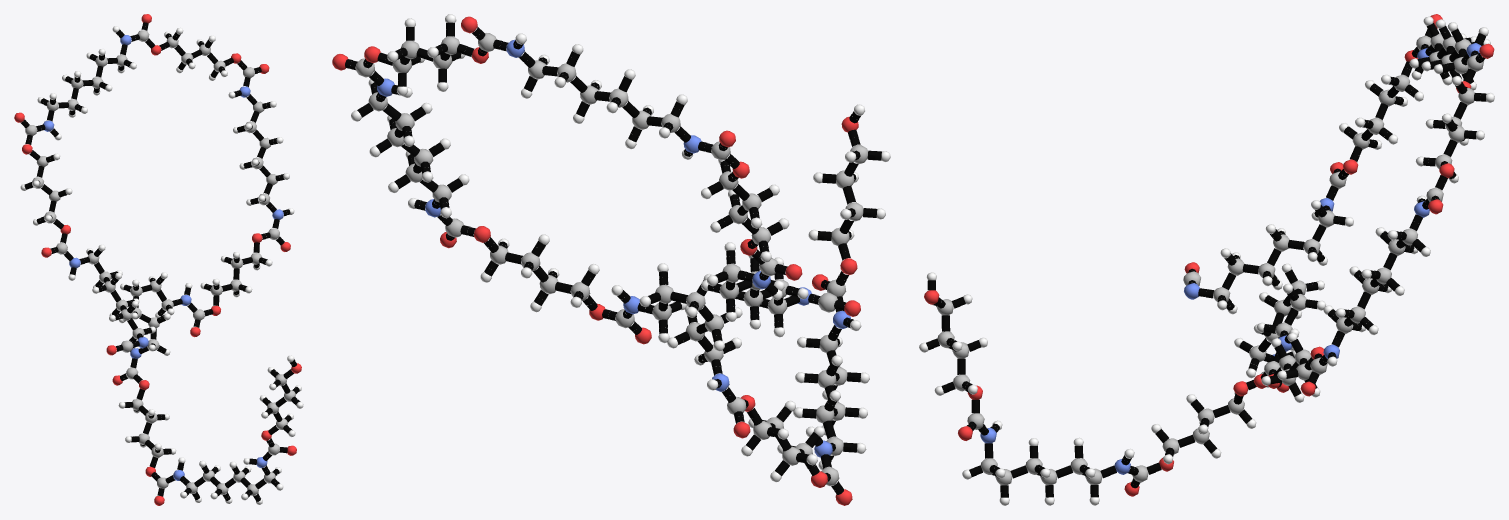
The model's file is PolyurethanLinearBall.gltf.
The picture shows the model from 3 angles, left to right: view 1: azimuth 30°, elevation 25°; view 2: azimuth 150°, elevation 25°; view 3: azimuth 270°, elevation 25°; orthographic projection. The views are drawn at different scales.
Bounding box in the file's own units: 0.519 × 0.7071 × 0.6971.
